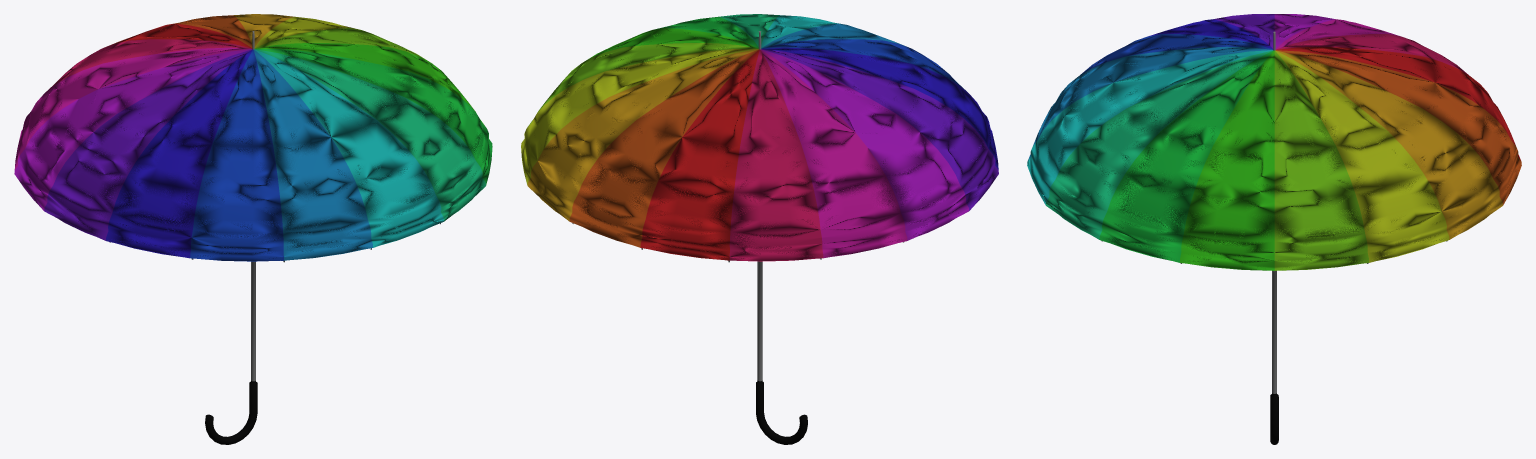
Rendered from colorfulUmbrella.fbx.
3 views of the same model, side by side, from view 1: azimuth 30°, elevation 25°; view 2: azimuth 150°, elevation 25°; view 3: azimuth 270°, elevation 25° (orthographic). The views are drawn at different scales.
Parts seen in each view (by area): view 1: (unnamed); view 2: (unnamed); view 3: (unnamed).
Part boxes in pixels (x1,y1,x2,y2): (unnamed): (14, 14, 492, 444); (unnamed): (521, 14, 998, 444); (unnamed): (1027, 14, 1521, 444).
Size of the model in its own units: 6.08 by 5.65 by 6.02.
